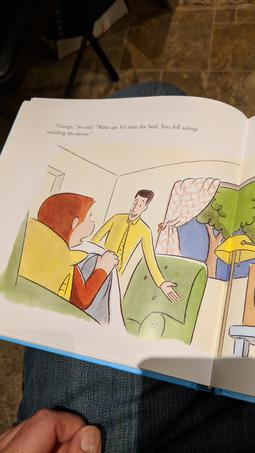text block: (40, 112, 205, 145)
